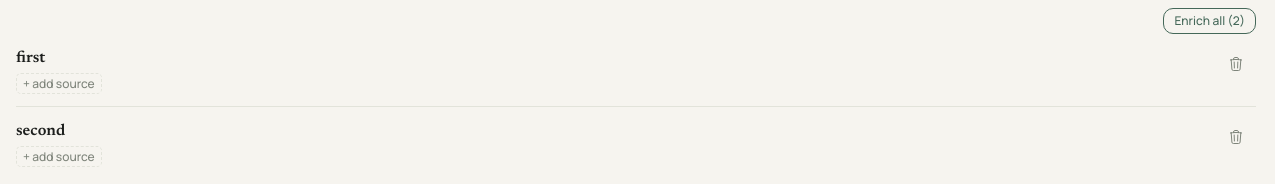
Scenario: CaptureList Pending Capture deletion › blocks Enrichment while deletion is pending
Step 1. Click the button named "Delete first" → (1236, 64), box [1216,44,1256,84]
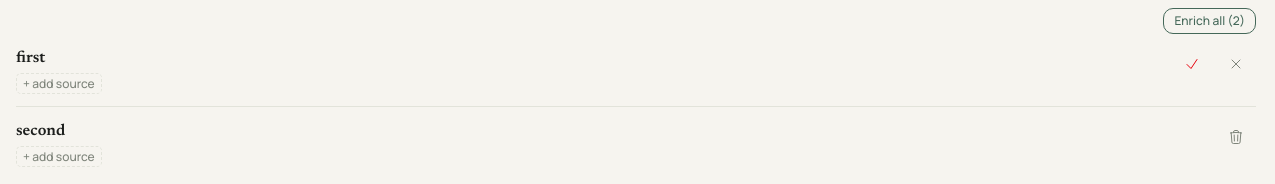
Step 2. Click the button named "Confirm delete first" → (1192, 64), box [1172,44,1212,84]
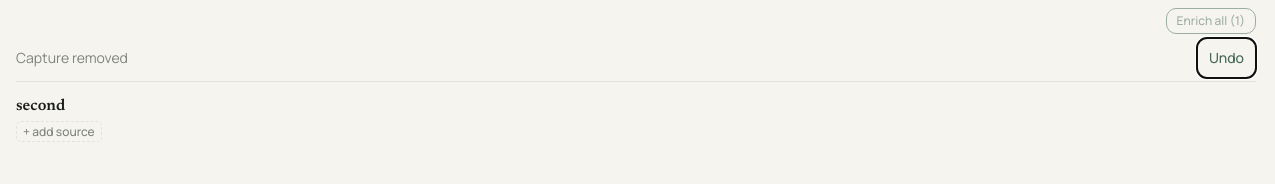
Check: the button "Enrich all (1)" is disabled, box [1166,8,1256,34]
